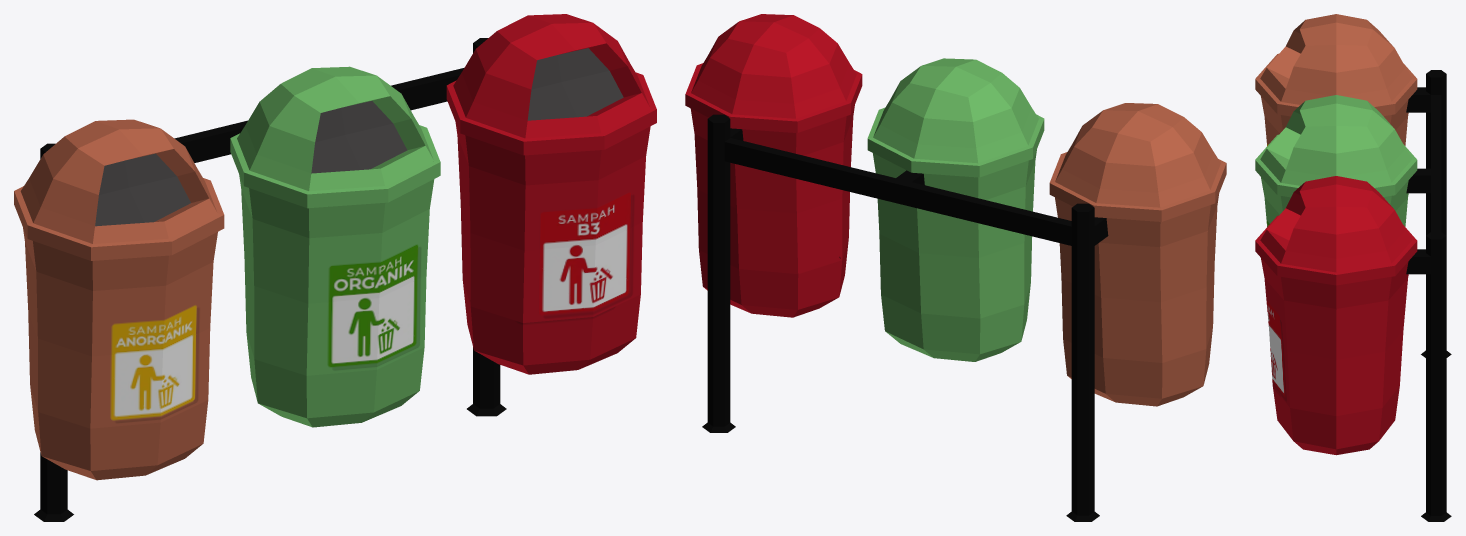
File: P_TRASH CAN 01.fbx
3 views of the same model, side by side, from view 1: azimuth 30°, elevation 25°; view 2: azimuth 150°, elevation 25°; view 3: azimuth 270°, elevation 25° (orthographic). The views are drawn at different scales.
Parts seen in each view (by area): view 1: Trash_Can_01; view 2: Trash_Can_01; view 3: Trash_Can_01.
Boxes of the visible parts, x1,y1,x2,y2 form: Trash_Can_01: (14, 14, 656, 521); Trash_Can_01: (685, 14, 1226, 521); Trash_Can_01: (1255, 14, 1451, 521).
Bounding box in the file's own units: 142 × 95.69 × 51.37.
